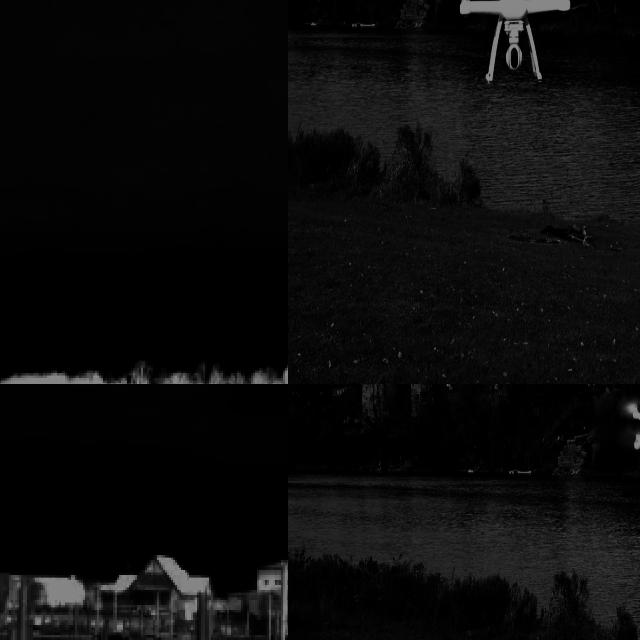drone: (434, 0, 576, 88)
